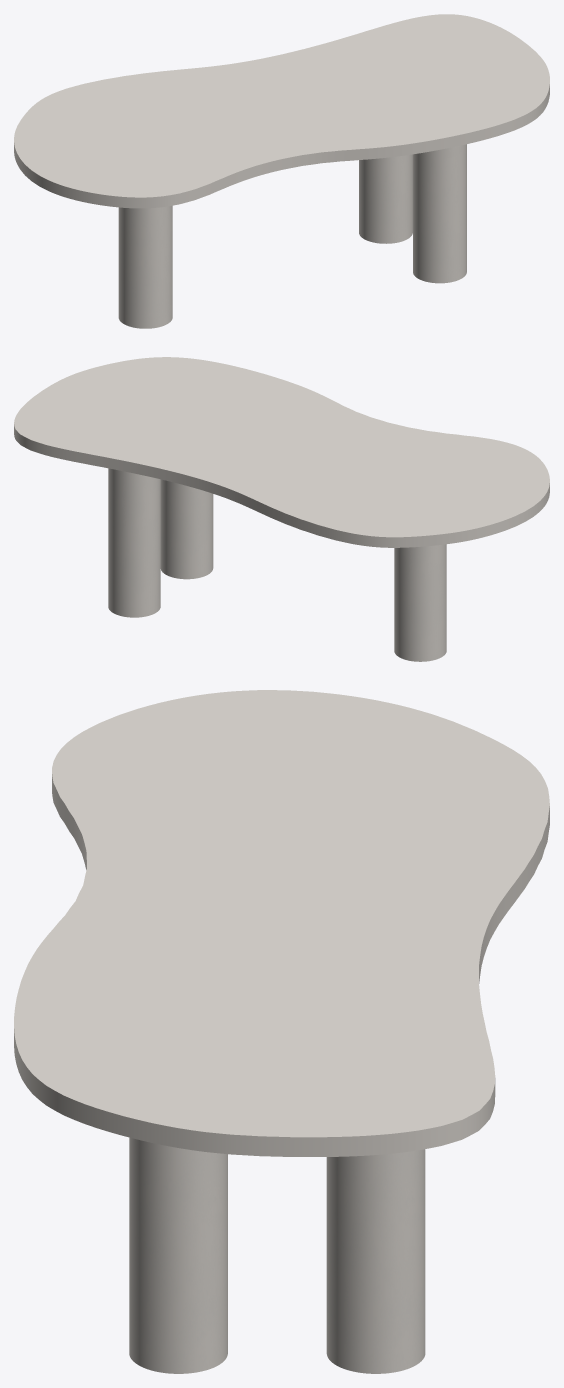
File: pearlwhite_wave_standard_cylinder.glb
3 renders of one model, top to bottom at view 1: azimuth 30°, elevation 25°; view 2: azimuth 150°, elevation 25°; view 3: azimuth 270°, elevation 25°, orthographic. The views are drawn at different scales.
Parts seen in each view (by area): view 1: standard_wave, cylinder; view 2: standard_wave, cylinder; view 3: standard_wave, cylinder.
Part boxes in pixels (bbox=[...]): standard_wave: bbox=[14, 14, 549, 208]; cylinder: bbox=[118, 144, 466, 328]; standard_wave: bbox=[14, 357, 549, 547]; cylinder: bbox=[108, 468, 446, 661]; standard_wave: bbox=[14, 690, 549, 1156]; cylinder: bbox=[129, 1137, 425, 1373].
Bounding box in the file's own units: 7.5 × 2.52 × 3.8.
1 material, 1 textured.
